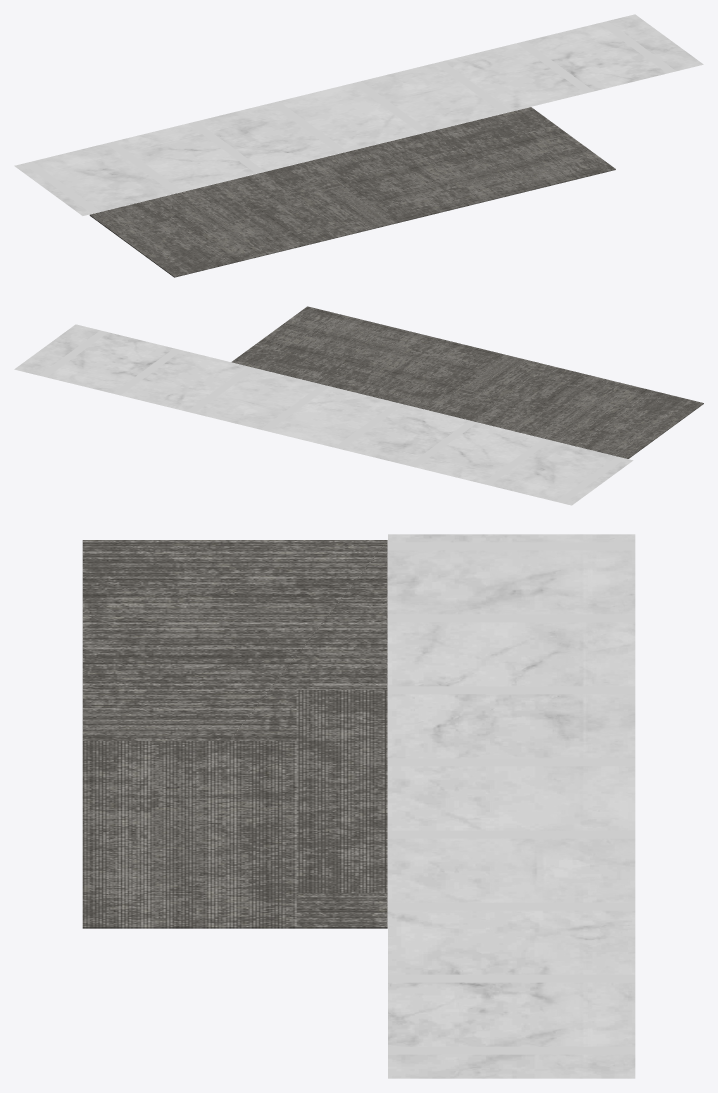
The model's file is reception_floor.fbx.
The picture shows the model from 3 angles, top to bottom: view 1: azimuth 30°, elevation 25°; view 2: azimuth 150°, elevation 25°; view 3: azimuth 270°, elevation 25°; orthographic projection. The views are drawn at different scales.
Parts seen in each view (by area): view 1: reception_floor; view 2: reception_floor; view 3: reception_floor.
Part boxes in pixels (x1=…): reception_floor: x1=14, y1=14, x2=703, y2=277; reception_floor: x1=14, y1=306, x2=703, y2=505; reception_floor: x1=82, y1=534, x2=635, y2=1078.
Bounding box in the file's own units: 1033 × 1.41 × 443.
3 materials, 2 textured.
